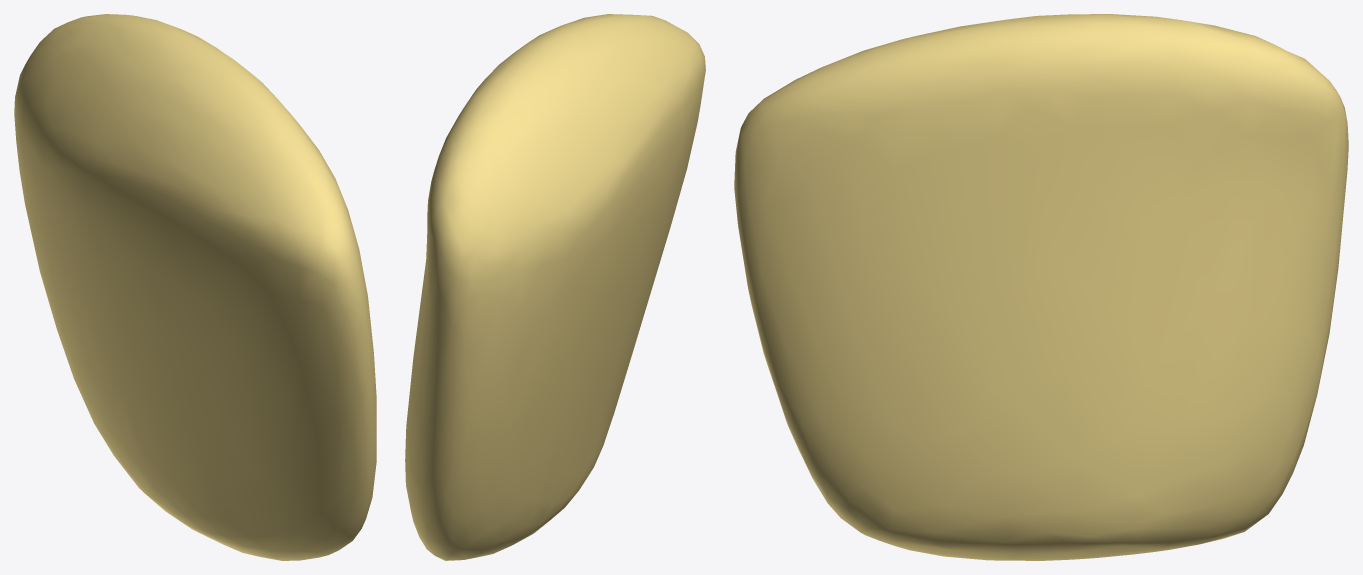
File: fma73342_fj7490.glb
The picture shows the model from 3 angles, left to right: view 1: azimuth 30°, elevation 25°; view 2: azimuth 150°, elevation 25°; view 3: azimuth 270°, elevation 25°; orthographic projection. The views are drawn at different scales.
Parts seen in each view (by area): view 1: FMA73342_FJ7490; view 2: FMA73342_FJ7490; view 3: FMA73342_FJ7490.
Boxes of the visible parts, x1,y1,x2,y2 form: FMA73342_FJ7490: (14, 14, 376, 560); FMA73342_FJ7490: (405, 14, 705, 560); FMA73342_FJ7490: (734, 14, 1348, 560).
Bounding box in the file's own units: 0.00154 × 0.00373 × 0.00395.
